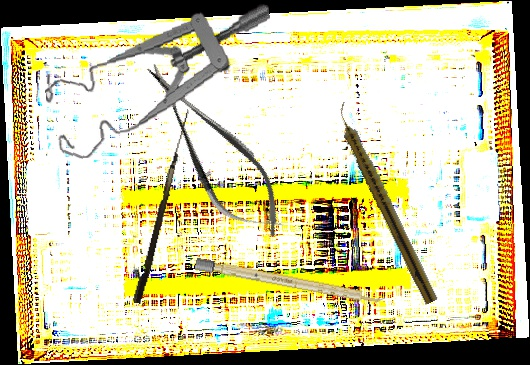Handpiece: (330, 101, 442, 305)
Hook Surgical: (132, 107, 190, 305)
Micro Scissor: (127, 46, 300, 254)
Scalpel Handle: (194, 257, 386, 307)
Speculum: (38, 3, 283, 162)
